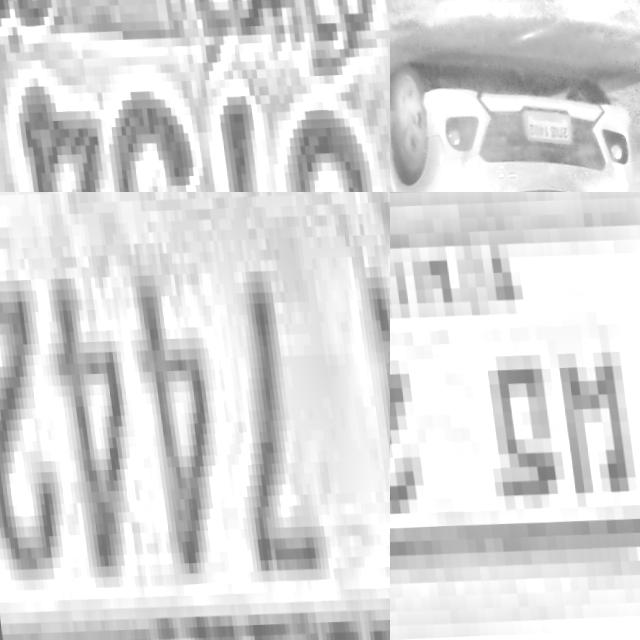license-plate: (0, 192, 390, 640), (390, 192, 640, 640), (0, 0, 390, 192), (517, 109, 571, 143)
